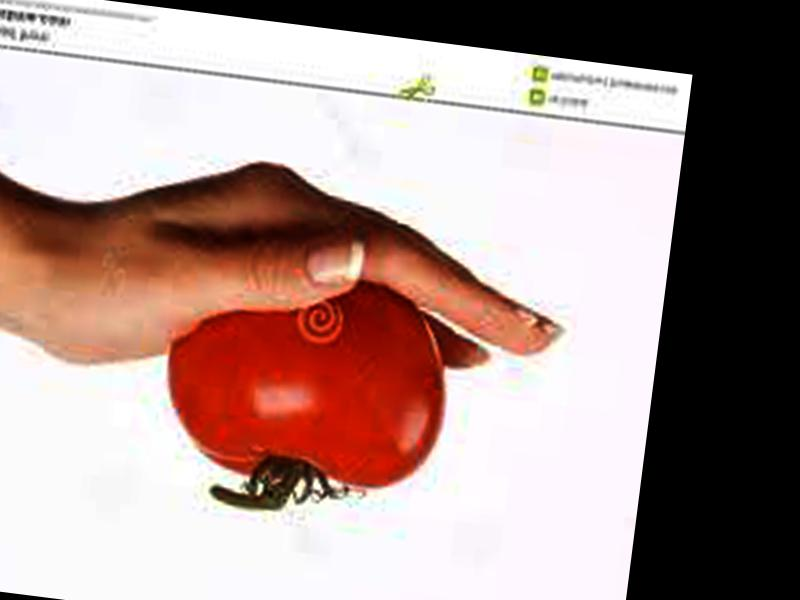Tomato: (156, 260, 457, 497)
